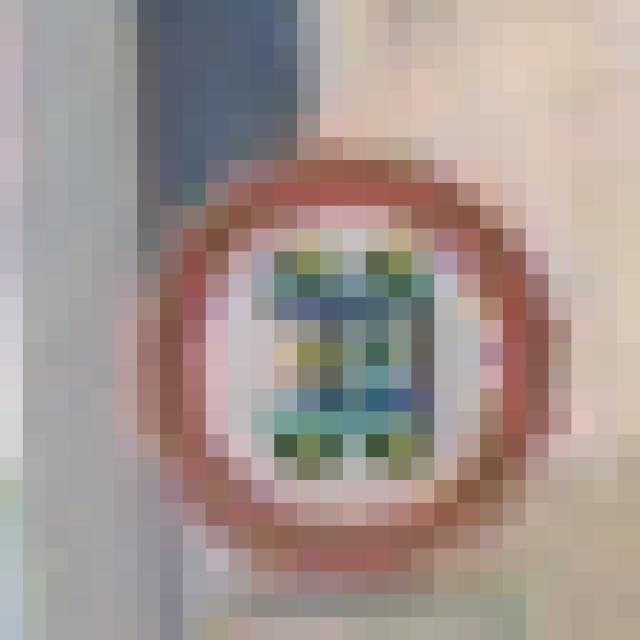Speed Limit -30-: (103, 103, 514, 514)
